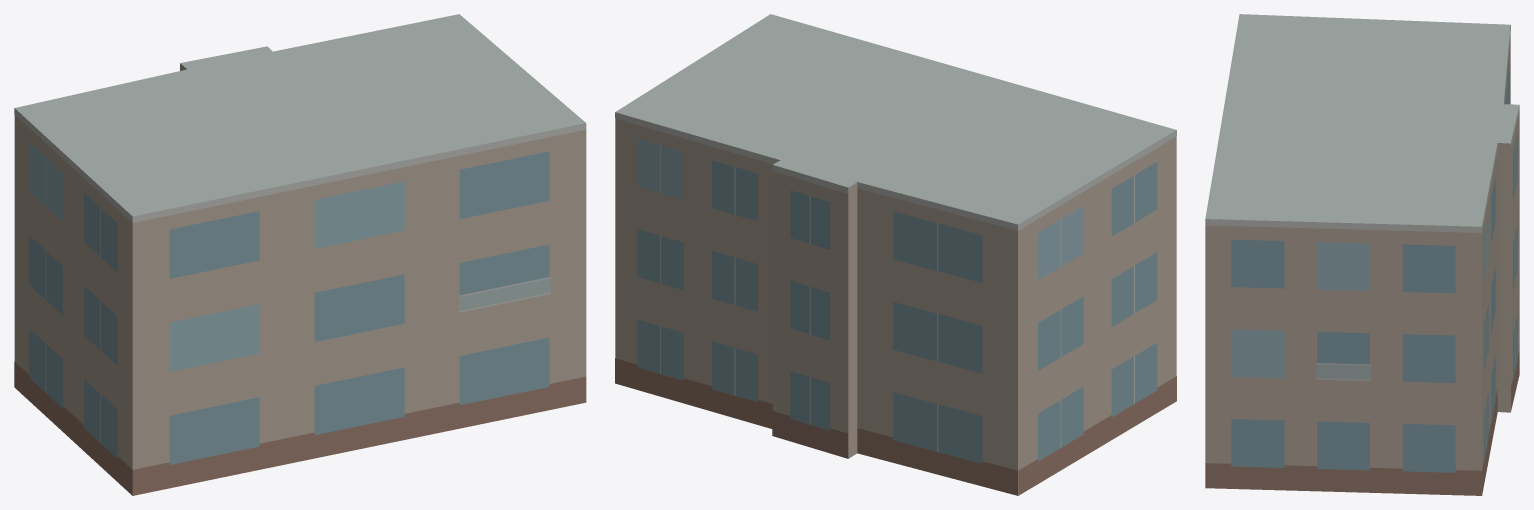
Rendered from survey-upis-32946034.glb.
3 views of the same model, side by side, from view 1: azimuth 30°, elevation 25°; view 2: azimuth 150°, elevation 25°; view 3: azimuth 270°, elevation 25° (orthographic). The views are drawn at different scales.
Parts seen in each view (by area): view 1: survey-upis-32946034.tmp; view 2: survey-upis-32946034.tmp; view 3: survey-upis-32946034.tmp.
Part boxes in pixels (x1=…): survey-upis-32946034.tmp: x1=14, y1=14, x2=586, y2=495; survey-upis-32946034.tmp: x1=615, y1=14, x2=1176, y2=495; survey-upis-32946034.tmp: x1=1205, y1=14, x2=1519, y2=495.
Bounding box in the file's own units: 17.81 × 10.5 × 11.13.
